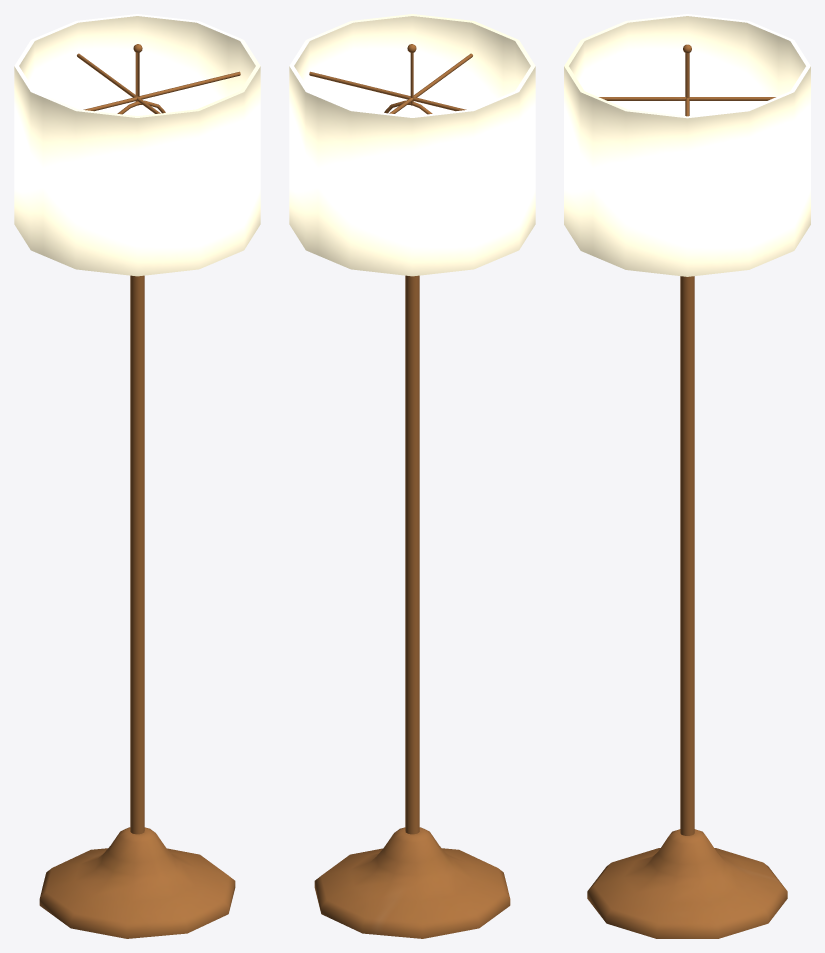
Rendered from Lights_Floor_Lamps_4.fbx.
The picture shows the model from 3 angles, left to right: view 1: azimuth 30°, elevation 25°; view 2: azimuth 150°, elevation 25°; view 3: azimuth 270°, elevation 25°; orthographic projection.
Visible parts, largest first — view 1: Cylinder.109; view 2: Cylinder.109; view 3: Cylinder.109.
Boxes of the visible parts, x1,y1,x2,y2 form: Cylinder.109: [14, 14, 260, 938]; Cylinder.109: [289, 14, 535, 938]; Cylinder.109: [564, 14, 810, 938].
Bounding box in the file's own units: 61.48 × 235 × 61.48.
